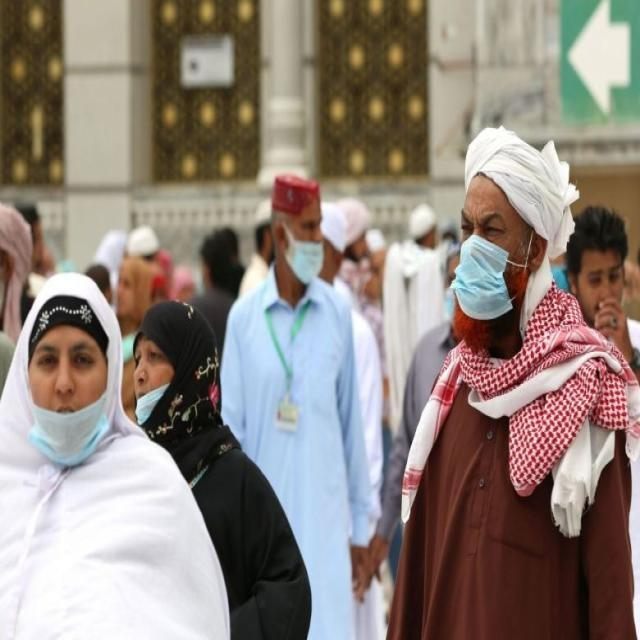hairnet: (29, 282, 120, 469), (133, 309, 214, 443), (267, 178, 325, 288)
